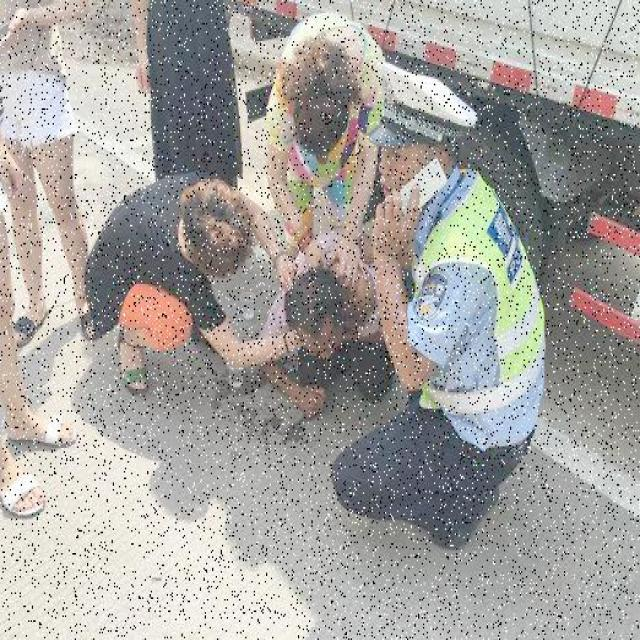fall: (265, 225, 381, 392)
